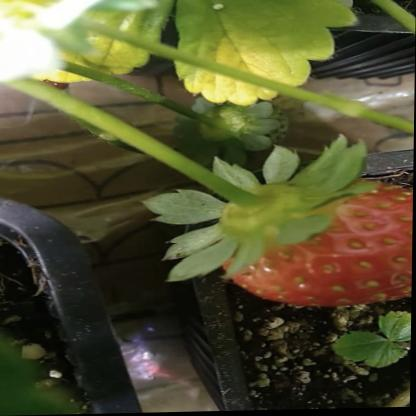ripe: (223, 174, 414, 314)
unripe: (188, 97, 289, 151)
